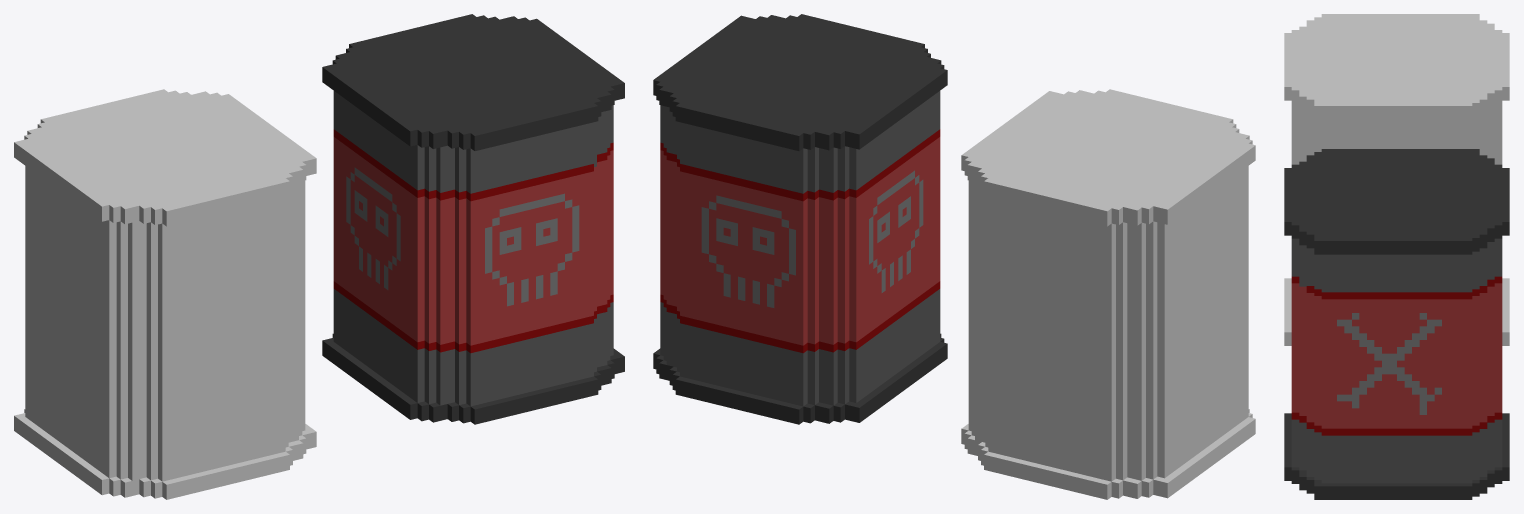
The model's file is barrel.fbx.
3 renders of one model, left to right at view 1: azimuth 30°, elevation 25°; view 2: azimuth 150°, elevation 25°; view 3: azimuth 270°, elevation 25°, orthographic. The views are drawn at different scales.
Visible parts, largest first — view 1: barrel:Mesh, baree_2:Mesh; view 2: barrel:Mesh, baree_2:Mesh; view 3: barrel:Mesh, baree_2:Mesh.
Part boxes in pixels (box(x1,y1,x2,y2)): barrel:Mesh: box(322, 14, 624, 424); baree_2:Mesh: box(14, 89, 316, 499); barrel:Mesh: box(653, 14, 947, 424); baree_2:Mesh: box(961, 89, 1255, 499); barrel:Mesh: box(1284, 149, 1509, 499); baree_2:Mesh: box(1284, 14, 1509, 345).
Bounding box in the file's own units: 71.47 × 38 × 30.
